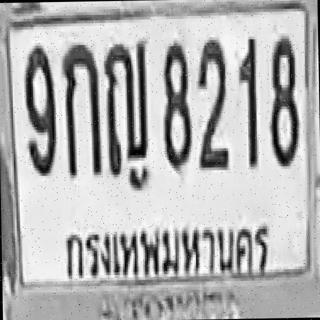A01: (61, 42, 101, 178)
A13: (102, 38, 149, 174)
N01: (236, 35, 259, 168)
N02: (195, 37, 228, 170)
N08: (268, 34, 299, 168), (161, 40, 191, 171)
N09: (22, 42, 56, 176)
P04: (60, 215, 276, 286)
